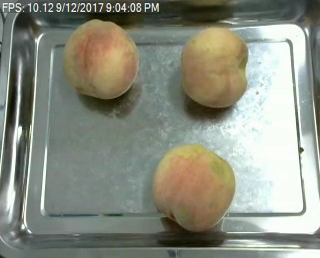Peach: (154, 142, 237, 231), (65, 19, 139, 100), (179, 25, 247, 109)
